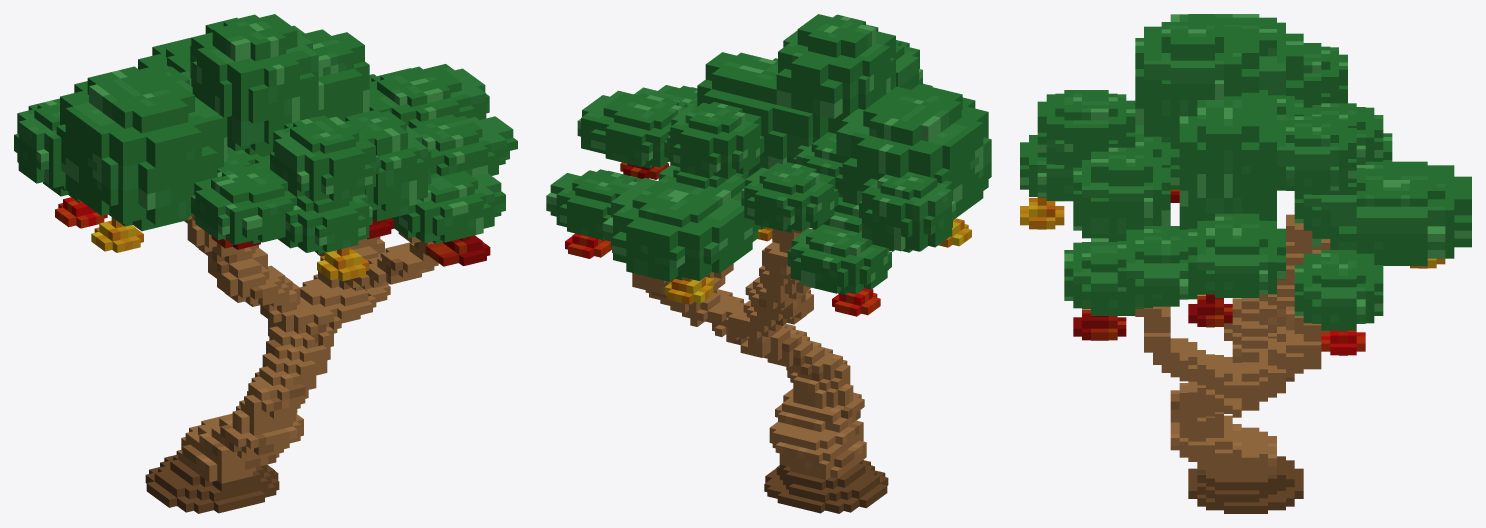
Rendered from Arbórea - Caju.obj.
3 views of the same model, side by side, from view 1: azimuth 30°, elevation 25°; view 2: azimuth 150°, elevation 25°; view 3: azimuth 270°, elevation 25° (orthographic). The views are drawn at different scales.
Bounding box in the file's own units: 5.3 × 5.8 × 5.1.
Materials: 1 (1 with a texture image).
